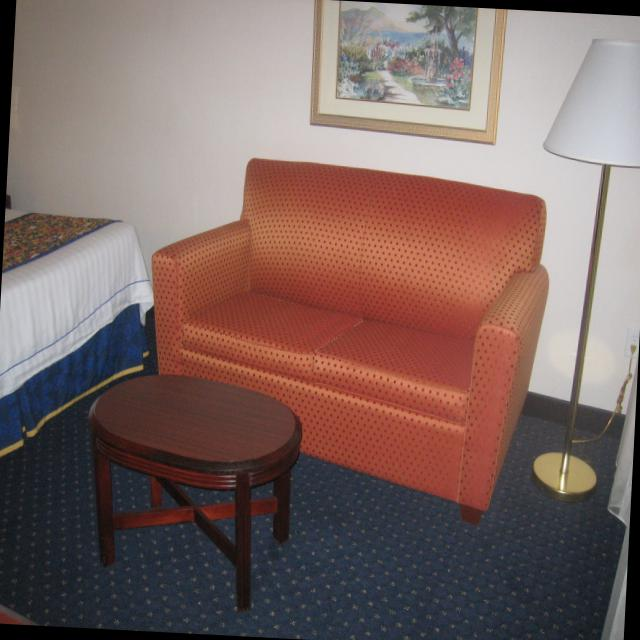bed frame: (0, 207, 153, 457)
floor -X: (0, 278, 633, 640)
lamp crop: (531, 38, 640, 500)
outlet: (624, 325, 640, 359)
painting crop: (309, 0, 507, 146)
sofa bed: (151, 157, 550, 525)
table -X: (86, 372, 302, 612)
wall clock: (2, 0, 640, 442)
